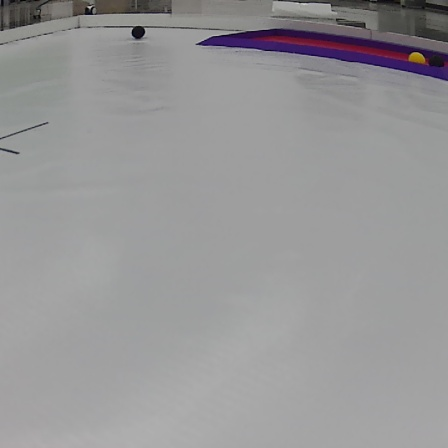black: (429, 53, 443, 69), (133, 26, 146, 40)
red_aim: (195, 23, 448, 88)
yellow: (407, 51, 424, 68)
